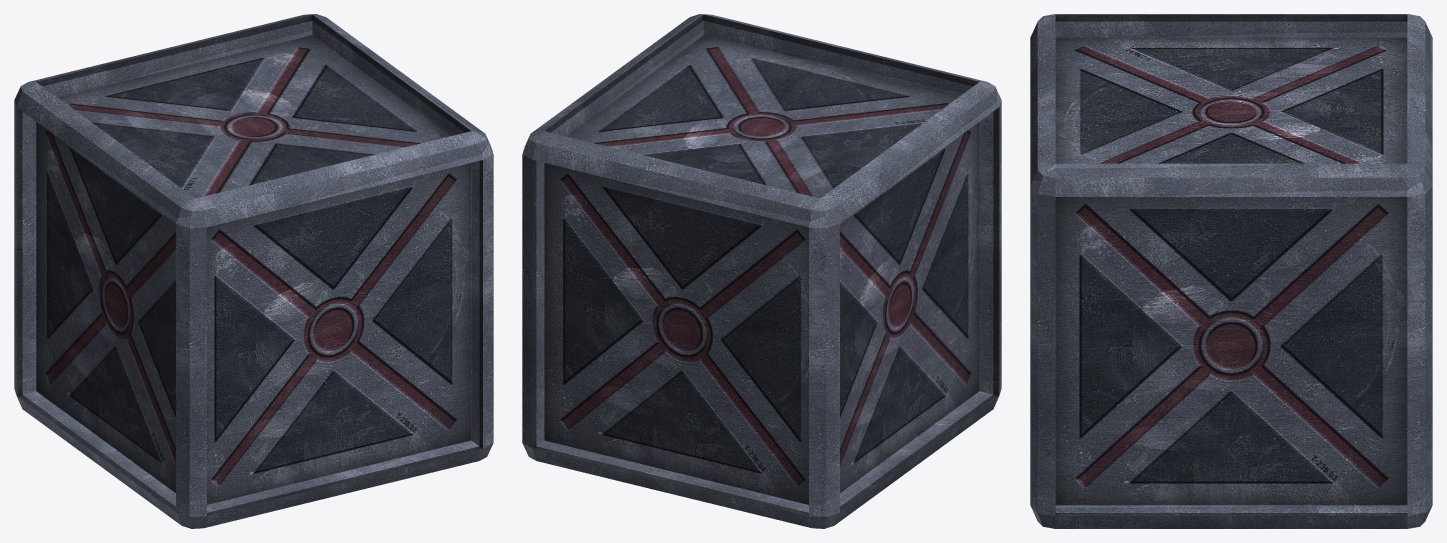
The model's file is techcon1.fbx.
3 views of the same model, side by side, from view 1: azimuth 30°, elevation 25°; view 2: azimuth 150°, elevation 25°; view 3: azimuth 270°, elevation 25° (orthographic). The views are drawn at different scales.
Visible parts, largest first — view 1: techcon1_Layer1; view 2: techcon1_Layer1; view 3: techcon1_Layer1.
Boxes of the visible parts, x1,y1,x2,y2 form: techcon1_Layer1: (14,14,493,528); techcon1_Layer1: (522,14,1001,528); techcon1_Layer1: (1030,14,1432,528).
Size of the model in its own units: 64 by 64 by 64.
Materials: 1 (1 with a texture image).
